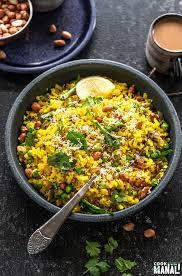poha: (13, 65, 171, 211)
